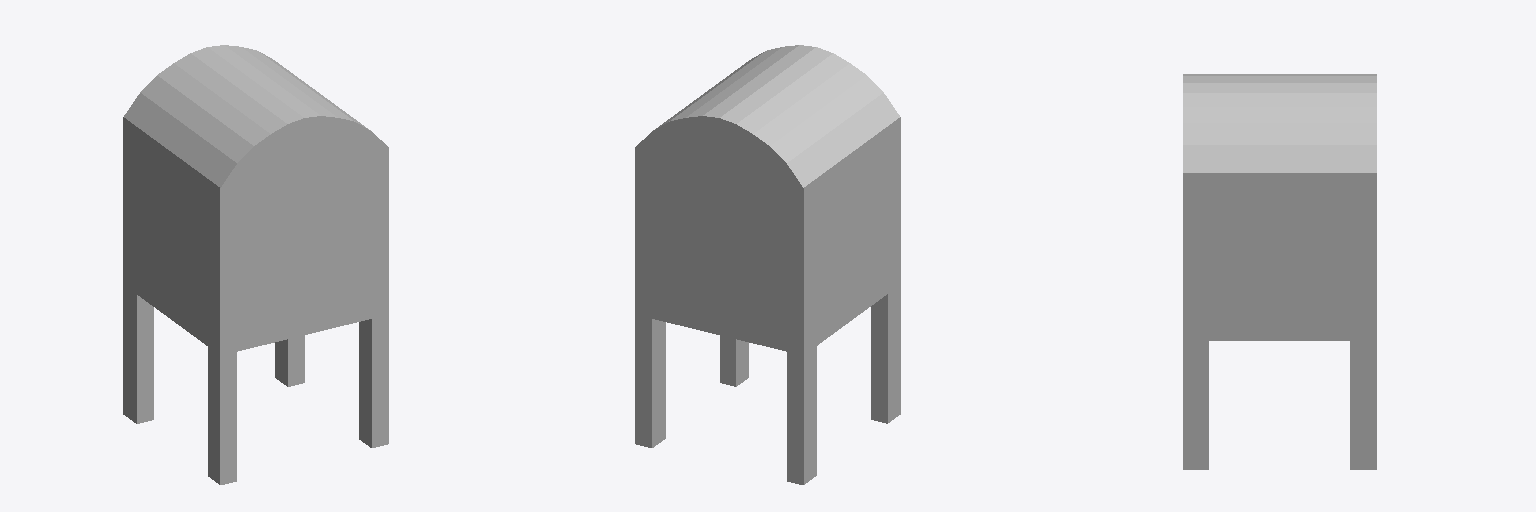
The model's file is MailBox.obj.
3 renders of one model, left to right at view 1: azimuth 30°, elevation 25°; view 2: azimuth 150°, elevation 25°; view 3: azimuth 270°, elevation 25°, orthographic.
Parts seen in each view (by area): view 1: MailBox; view 2: MailBox; view 3: MailBox.
Boxes of the visible parts, box(x1,y1,x2,y2) form: MailBox: box(123, 45, 388, 484); MailBox: box(635, 45, 900, 484); MailBox: box(1183, 74, 1376, 469).
Bounding box in the file's own units: 1.36 × 2.69 × 1.36.